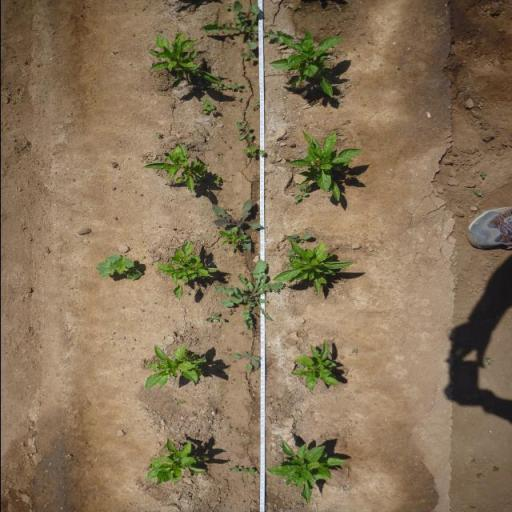plant: (279, 127, 366, 203), (264, 25, 342, 101), (265, 437, 347, 506), (272, 240, 356, 298), (146, 31, 218, 87), (155, 239, 220, 299), (139, 140, 209, 195), (143, 437, 212, 487), (145, 342, 207, 392), (287, 340, 343, 394)
weed: (211, 257, 286, 333), (197, 0, 283, 51), (206, 199, 262, 254), (94, 252, 144, 283), (229, 350, 261, 372), (216, 228, 244, 250), (234, 123, 256, 143), (292, 185, 313, 202), (241, 145, 265, 158), (284, 232, 312, 243), (225, 465, 255, 475), (199, 99, 217, 115), (204, 312, 225, 324), (238, 49, 256, 62), (250, 98, 260, 114), (230, 81, 244, 92), (212, 173, 223, 186), (469, 189, 484, 197), (174, 398, 188, 406), (484, 357, 494, 366), (226, 309, 236, 317), (478, 171, 488, 179), (224, 2, 232, 10), (283, 414, 293, 420), (350, 348, 359, 354), (153, 132, 162, 138), (222, 84, 230, 90), (236, 96, 244, 102), (492, 466, 500, 472), (239, 332, 248, 337), (167, 103, 176, 108), (244, 439, 251, 444), (228, 94, 235, 99), (214, 152, 222, 156), (226, 348, 231, 352)
